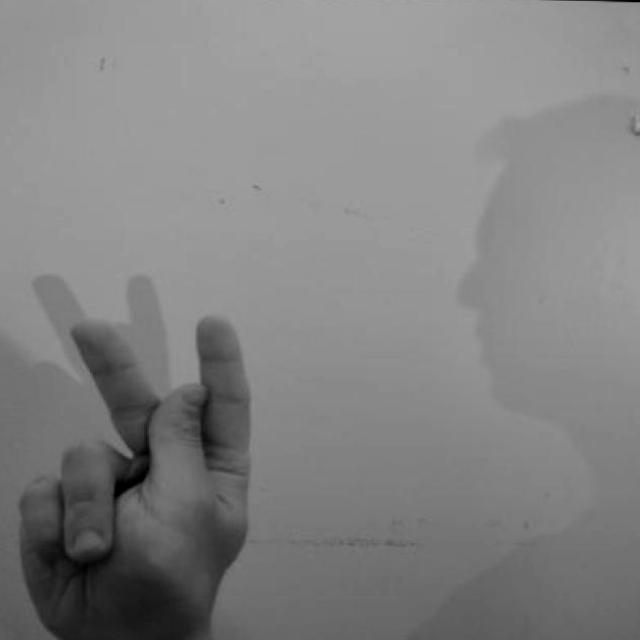K: (11, 313, 261, 640)
